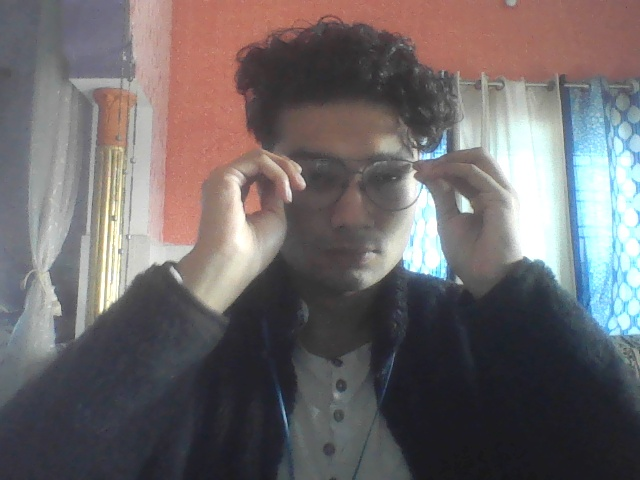real: (244, 34, 437, 307)
